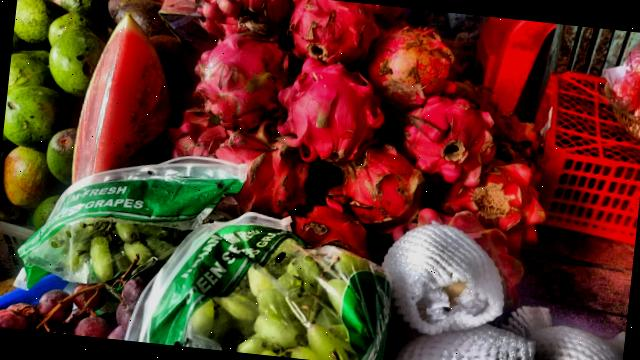buah-naga-belum-matang: (182, 118, 320, 220), (184, 32, 298, 138), (368, 19, 459, 103), (340, 152, 432, 234)
buah-naga-matang: (396, 82, 496, 184), (278, 58, 379, 158), (458, 160, 546, 238), (280, 0, 378, 68), (190, 0, 298, 44)
